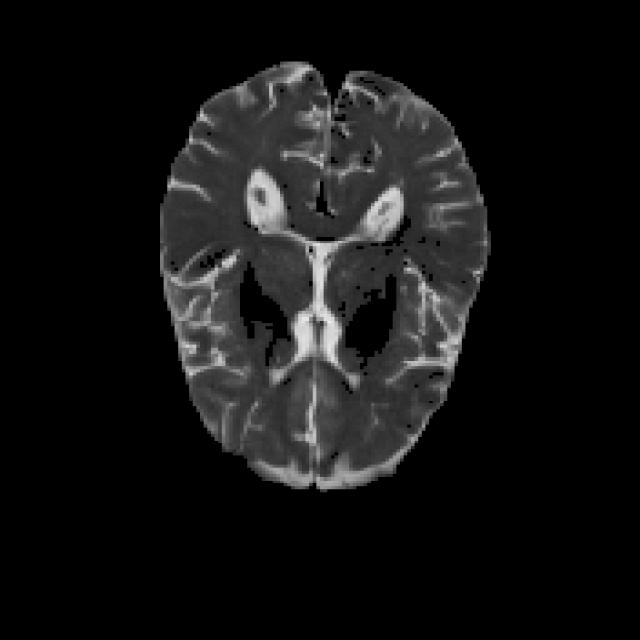parkinson: (156, 59, 491, 492)
